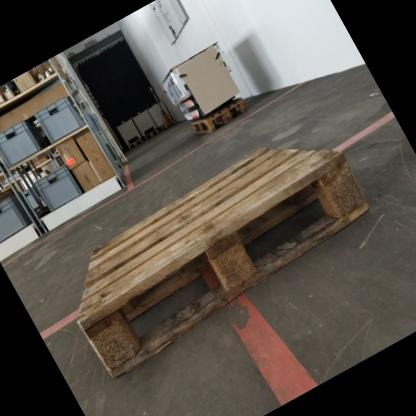BoxFace: (78, 137, 375, 383), (188, 95, 251, 133)
